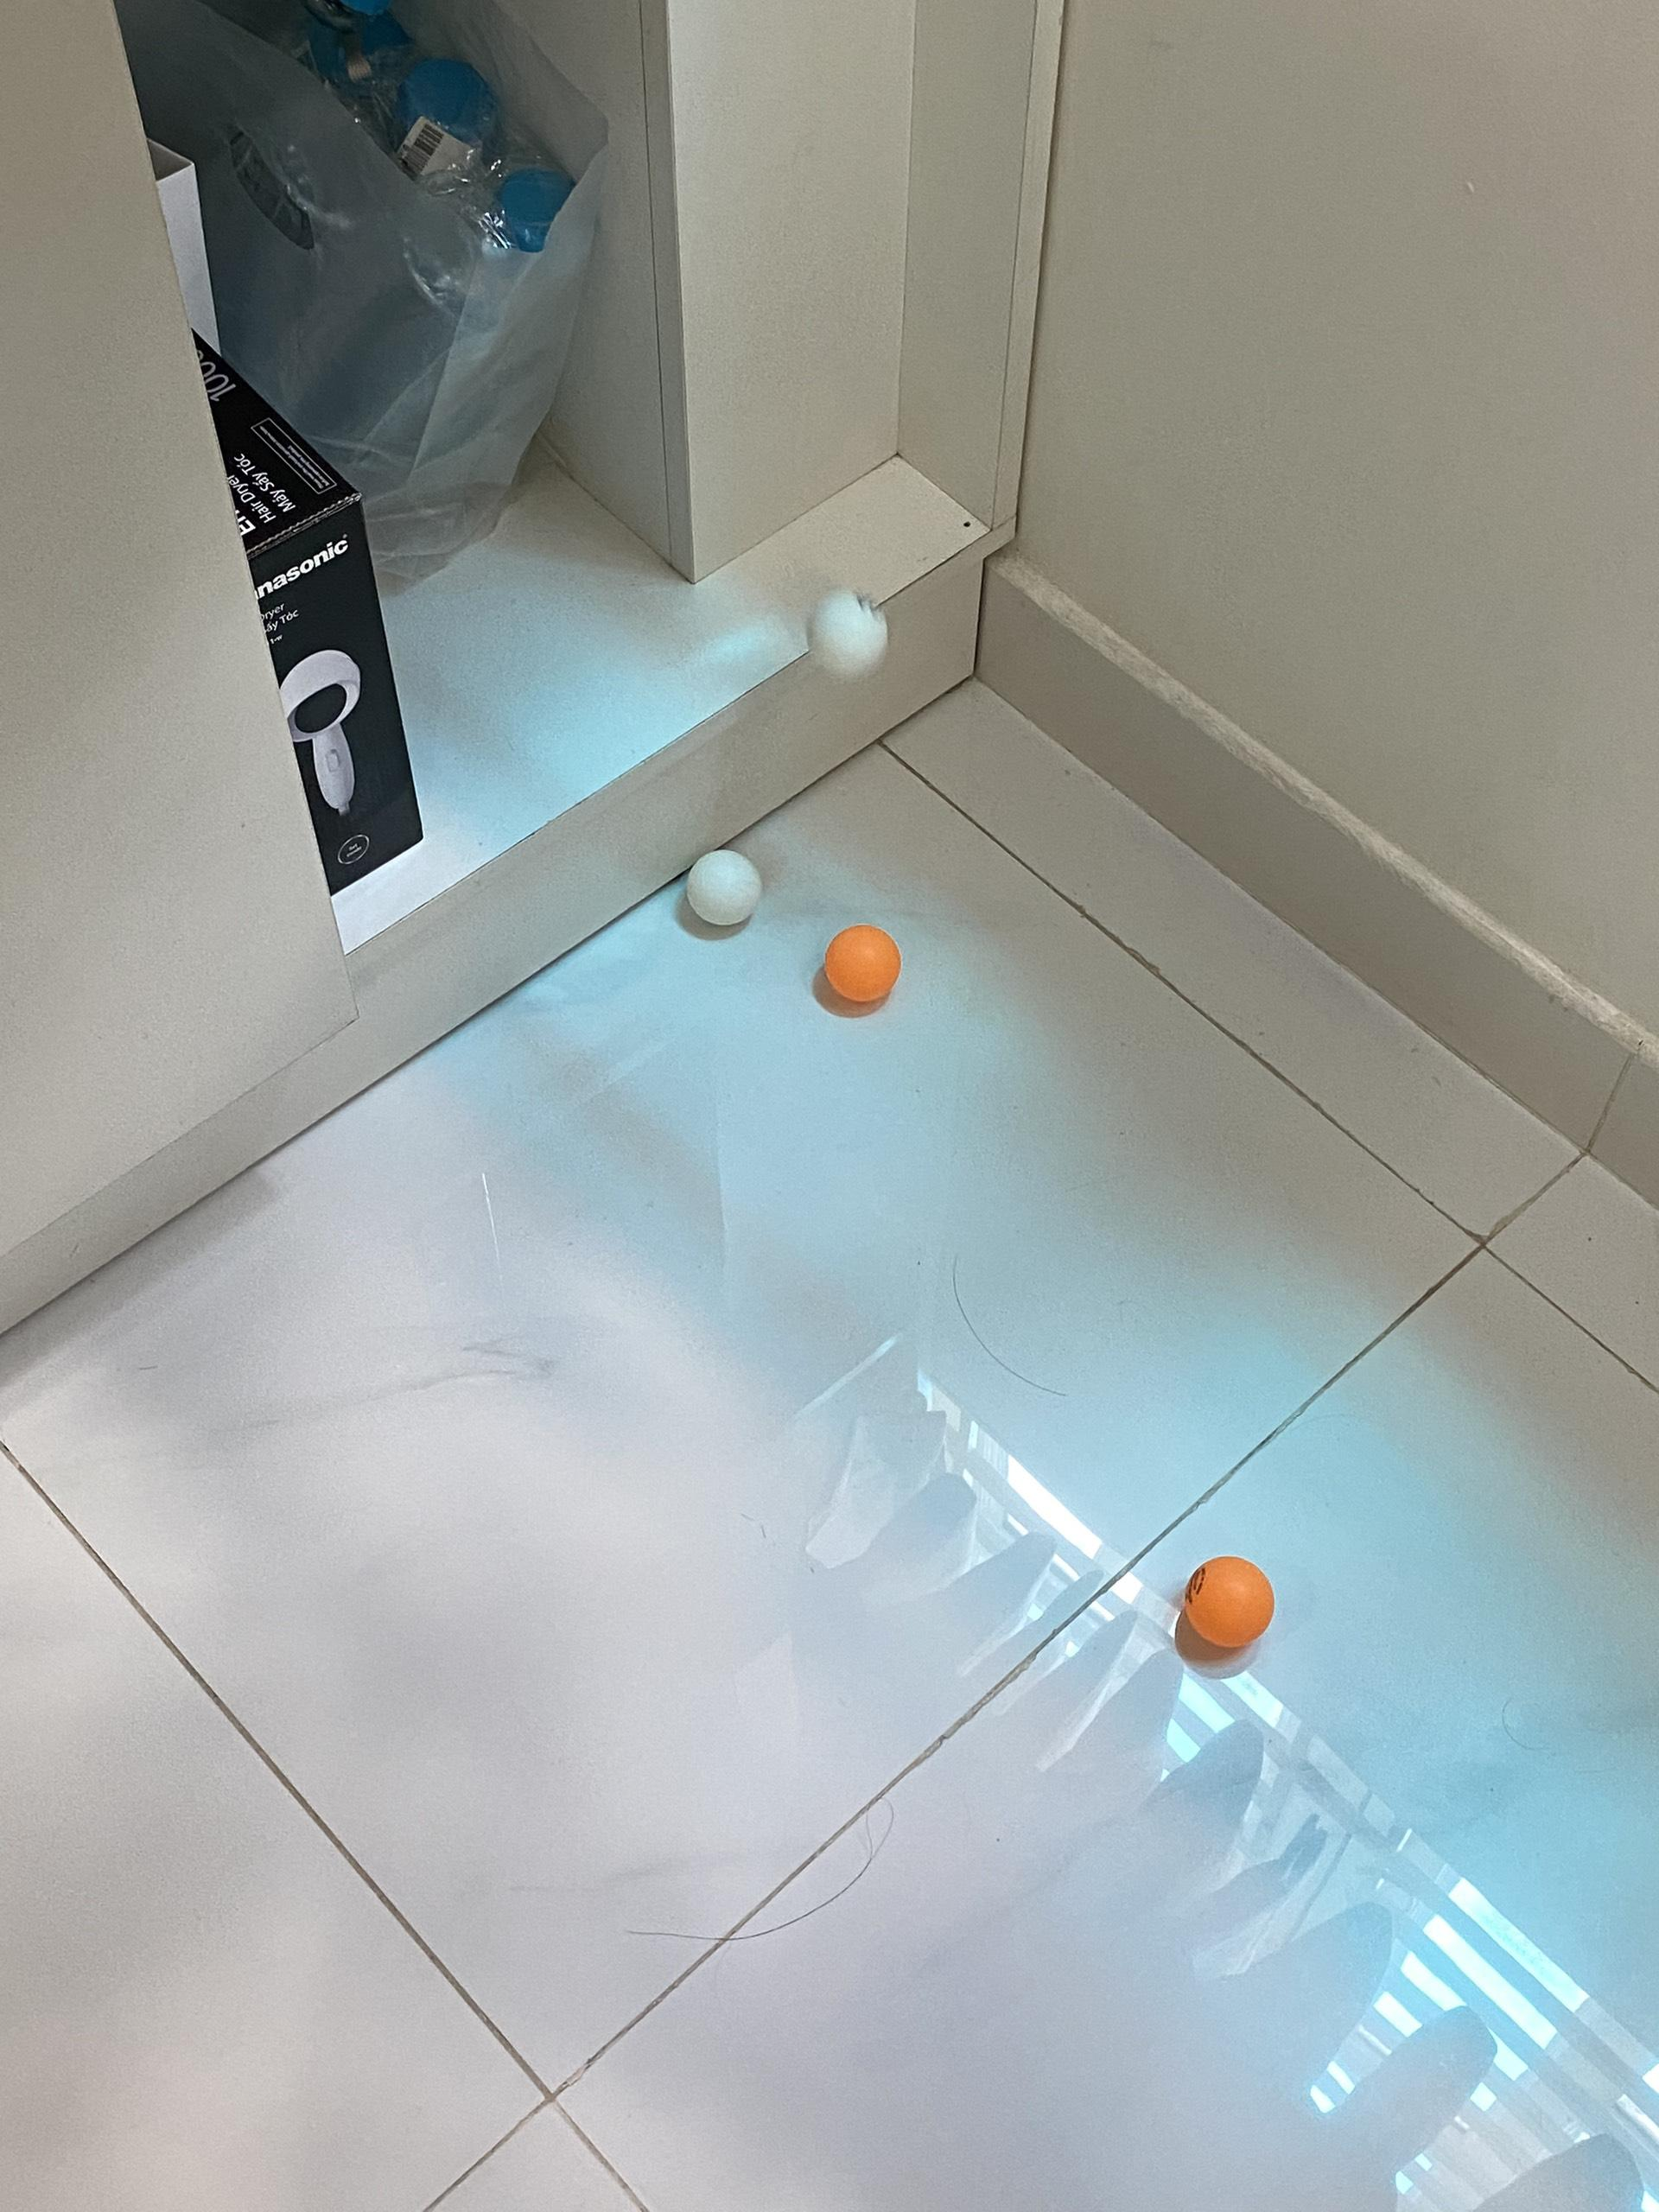oball: (1187, 1555, 1274, 1653), (824, 921, 904, 1008)
